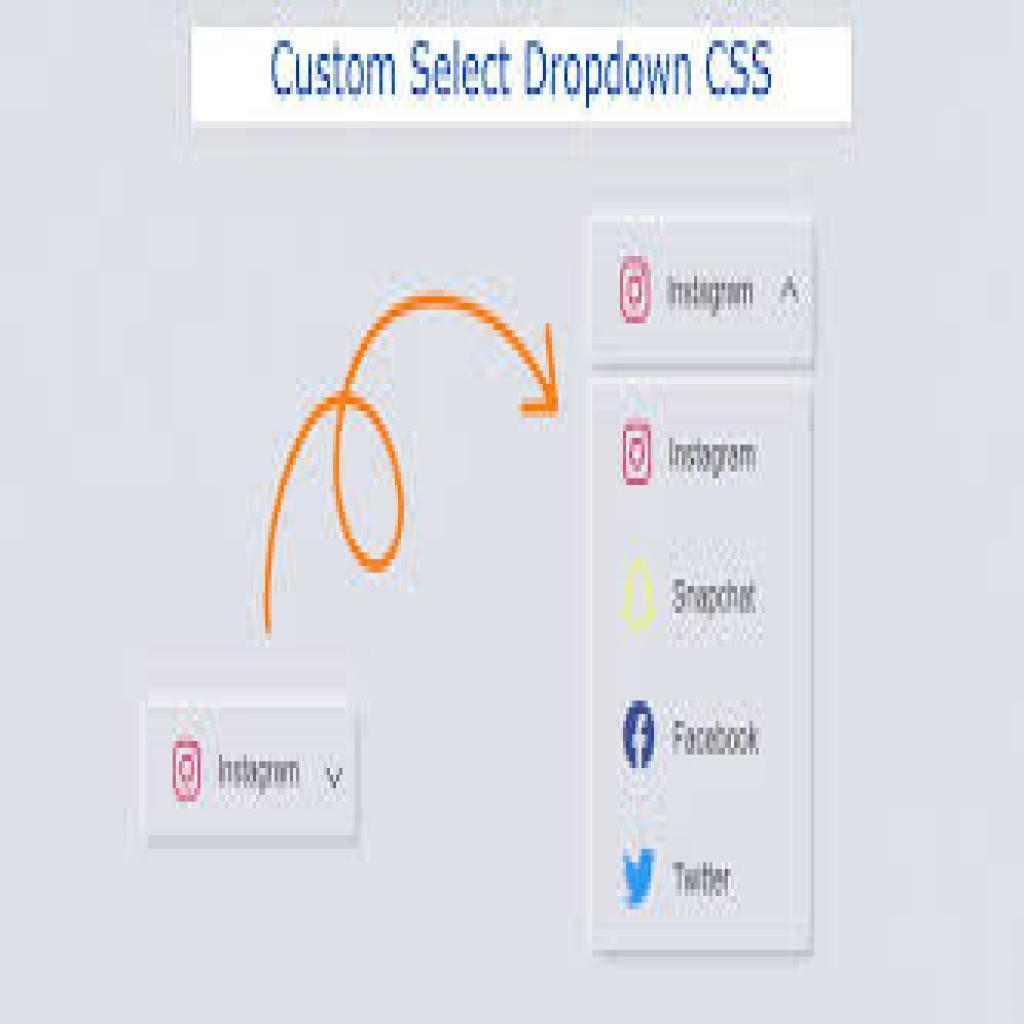dropdown: (592, 219, 817, 372), (145, 709, 361, 844)
icon: (618, 697, 663, 780), (621, 561, 665, 639), (617, 847, 665, 913), (617, 417, 659, 491)
label: (665, 432, 756, 494), (671, 714, 767, 761), (672, 572, 760, 620), (671, 857, 733, 903)
